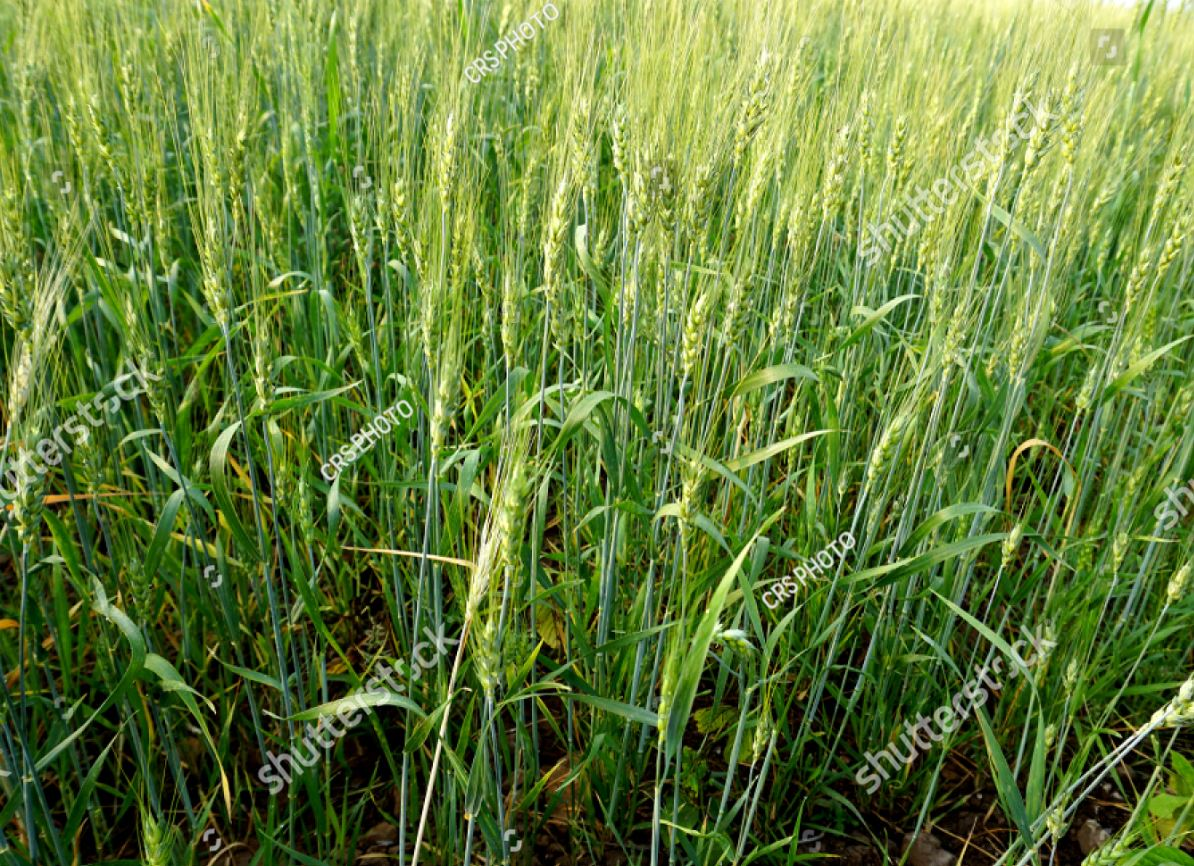Wheat: (439, 126, 862, 644)
